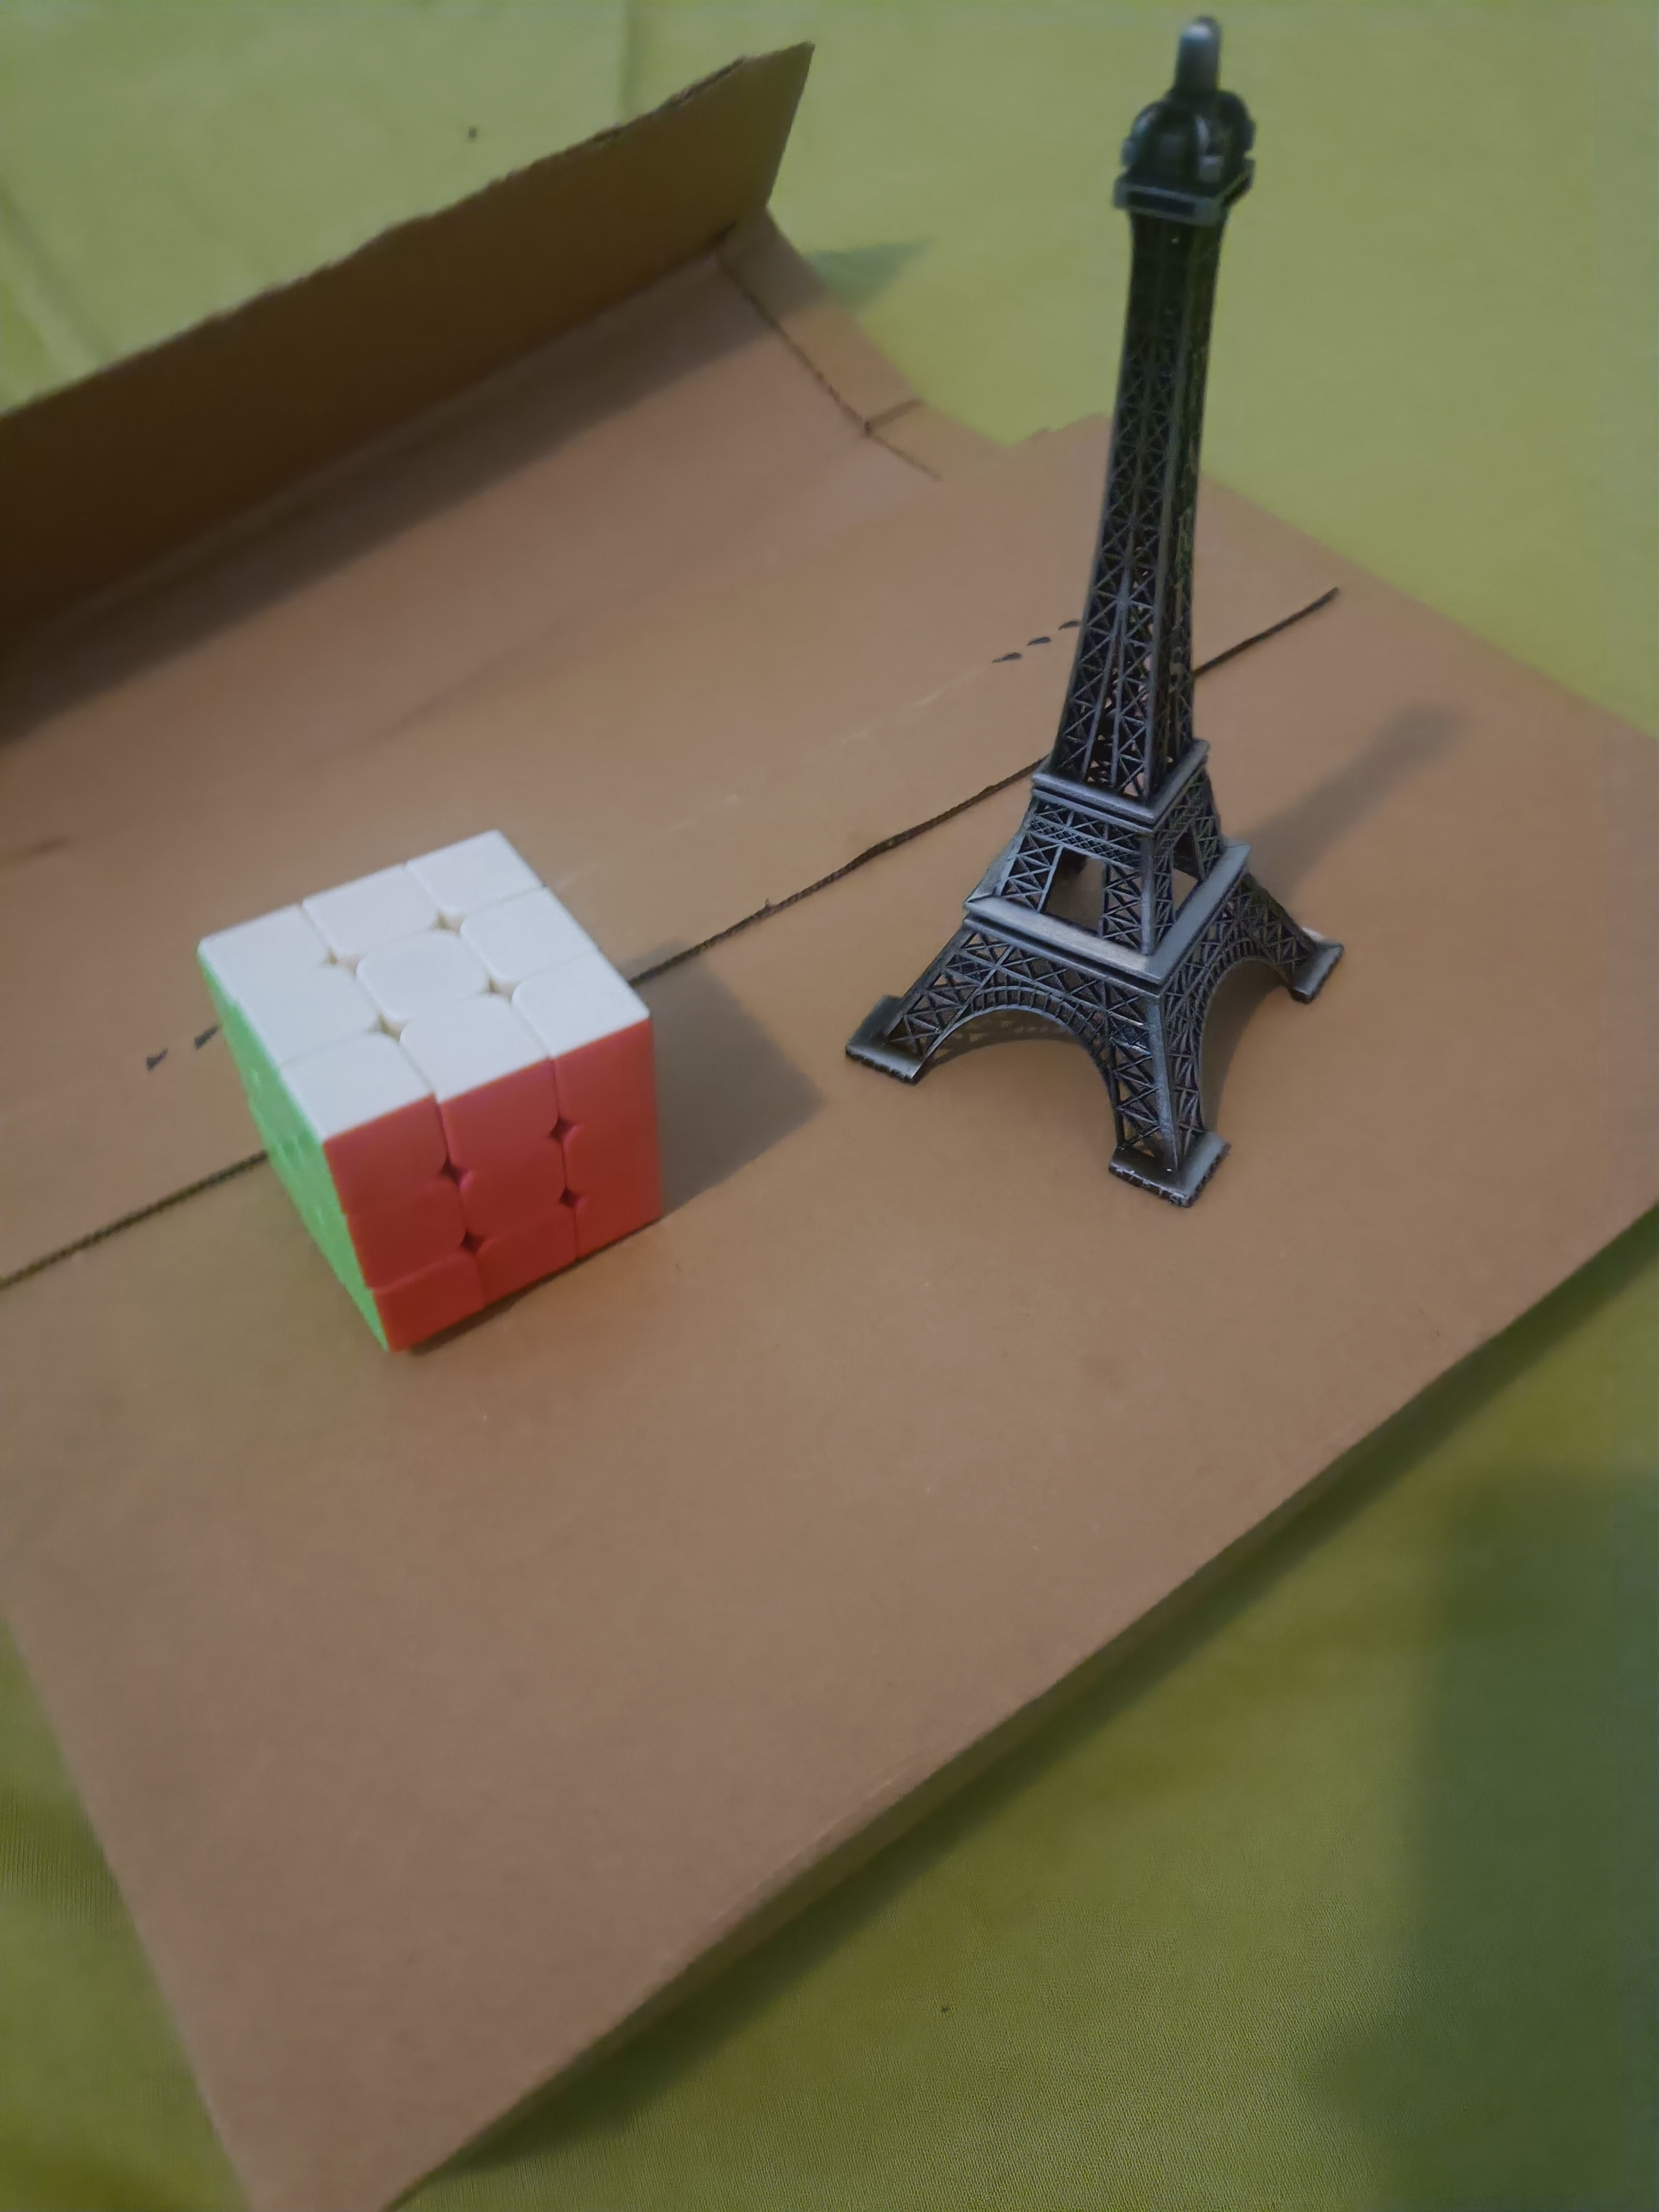Eiffel Tower: (827, 5, 1385, 1208)
Rubiks Cube: (182, 807, 687, 1369)
